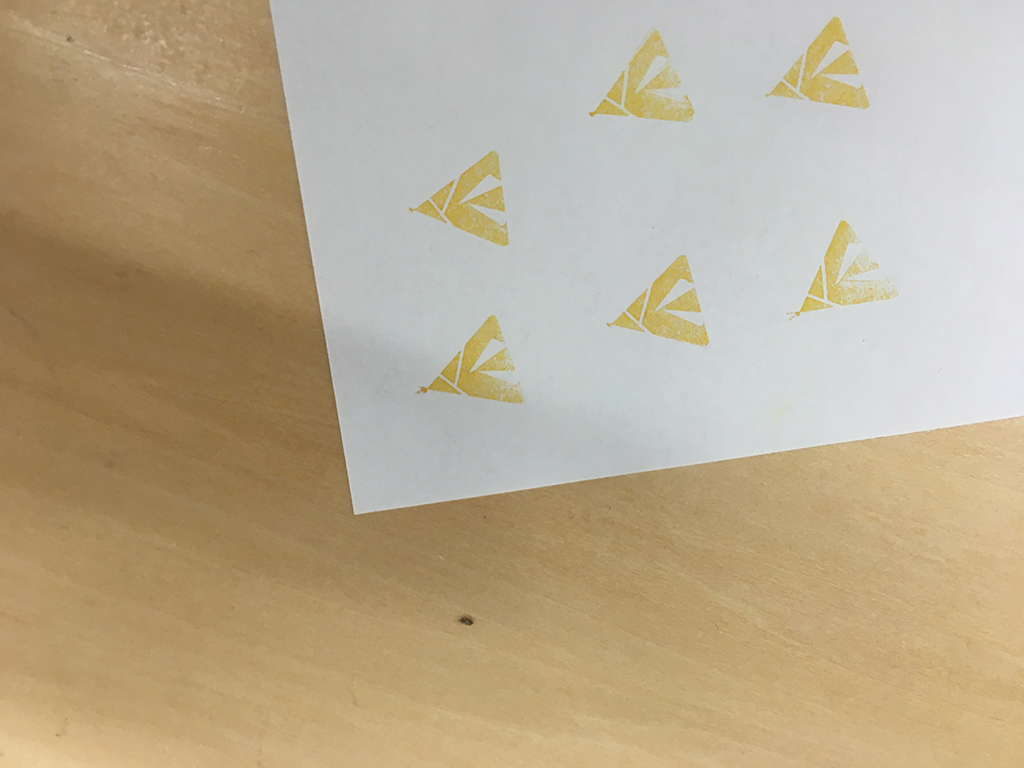tent: (409, 299, 536, 417), (784, 208, 903, 322), (594, 242, 713, 355), (755, 7, 875, 118), (585, 23, 699, 134), (403, 145, 515, 252)
